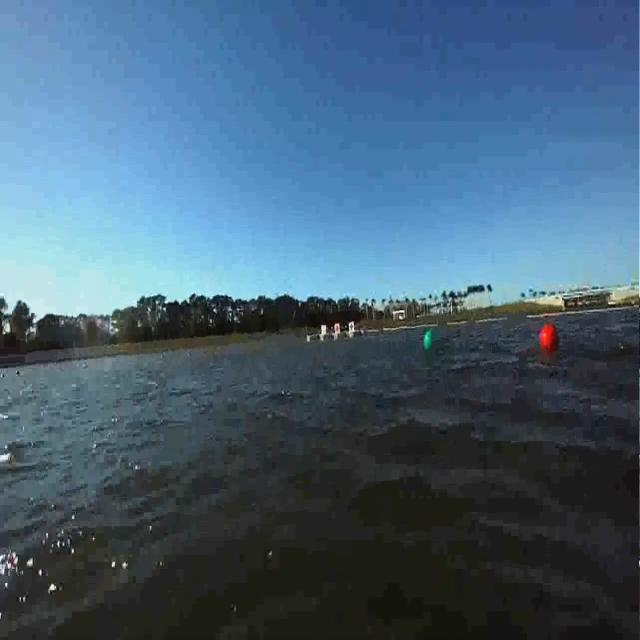green-buoy: (424, 331, 434, 350)
red-buoy: (541, 325, 561, 355)
